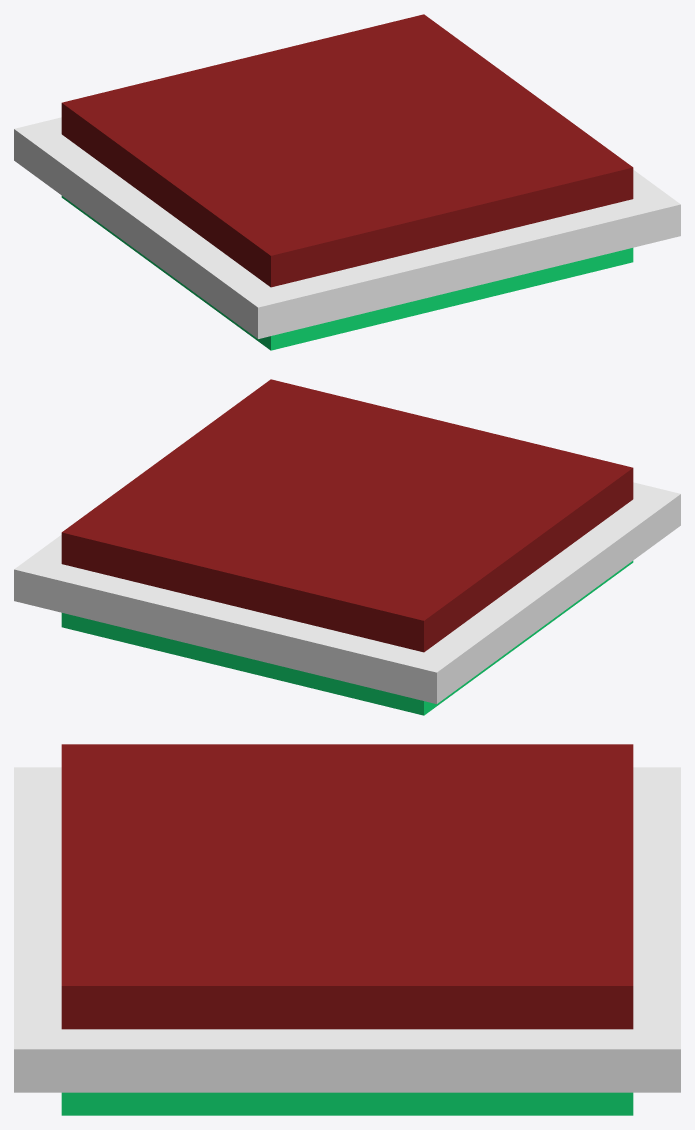
The model's file is Switch.obj.
3 views of the same model, one above another, from view 1: azimuth 30°, elevation 25°; view 2: azimuth 150°, elevation 25°; view 3: azimuth 270°, elevation 25° (orthographic). The views are drawn at different scales.
Bounding box in the file's own units: 1.4 × 0.3 × 1.4.
Materials: 1 (1 with a texture image).
